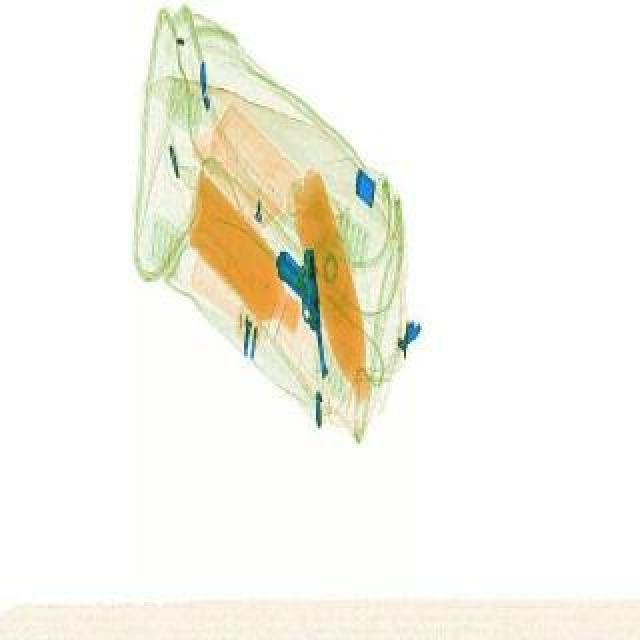gun: (272, 240, 346, 384)
